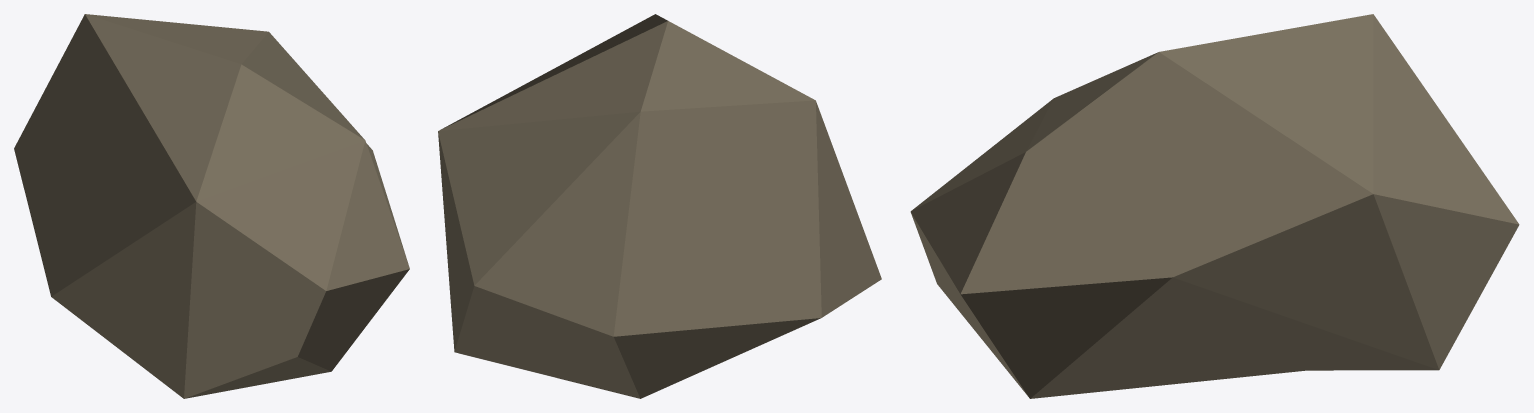
File: Rock_2.fbx
3 renders of one model, left to right at view 1: azimuth 30°, elevation 25°; view 2: azimuth 150°, elevation 25°; view 3: azimuth 270°, elevation 25°, orthographic. The views are drawn at different scales.
Visible parts, largest first — view 1: rock_1; view 2: rock_1; view 3: rock_1.
Part boxes in pixels (x1=…): rock_1: x1=14, y1=14, x2=409, y2=398; rock_1: x1=438, y1=14, x2=881, y2=398; rock_1: x1=910, y1=14, x2=1519, y2=398.
Bounding box in the file's own units: 45.83 × 41.75 × 67.7.
